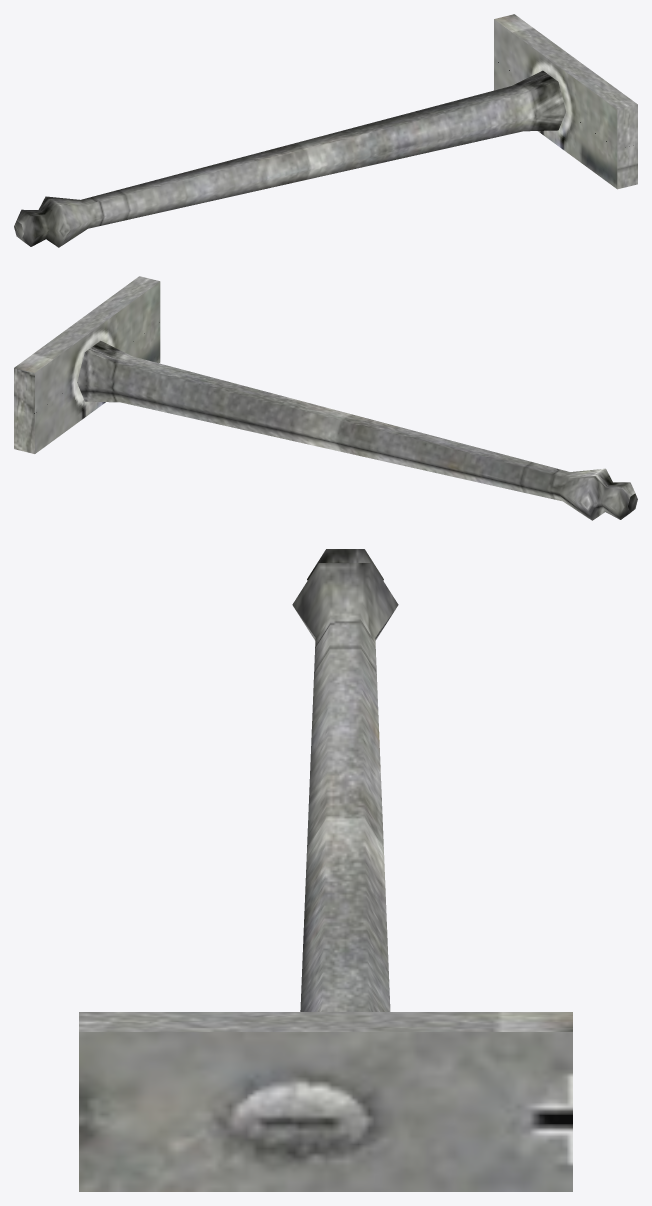
File: gun.obj
3 views of the same model, one above another, from view 1: azimuth 30°, elevation 25°; view 2: azimuth 150°, elevation 25°; view 3: azimuth 270°, elevation 25° (orthographic). The views are drawn at different scales.
Parts seen in each view (by area): view 1: barrel; view 2: barrel; view 3: barrel.
Part boxes in pixels (bbox=[...]): barrel: bbox=[14, 14, 637, 247]; barrel: bbox=[14, 276, 637, 520]; barrel: bbox=[79, 549, 572, 1191].
Bounding box in the file's own units: 111 × 15.38 × 43.06.
Materials: 1 (1 with a texture image).
